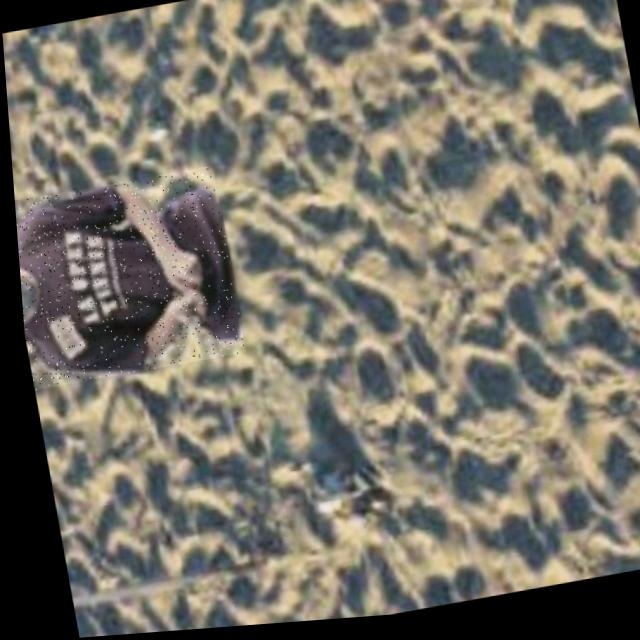Person in Rubble: (10, 166, 241, 389)
